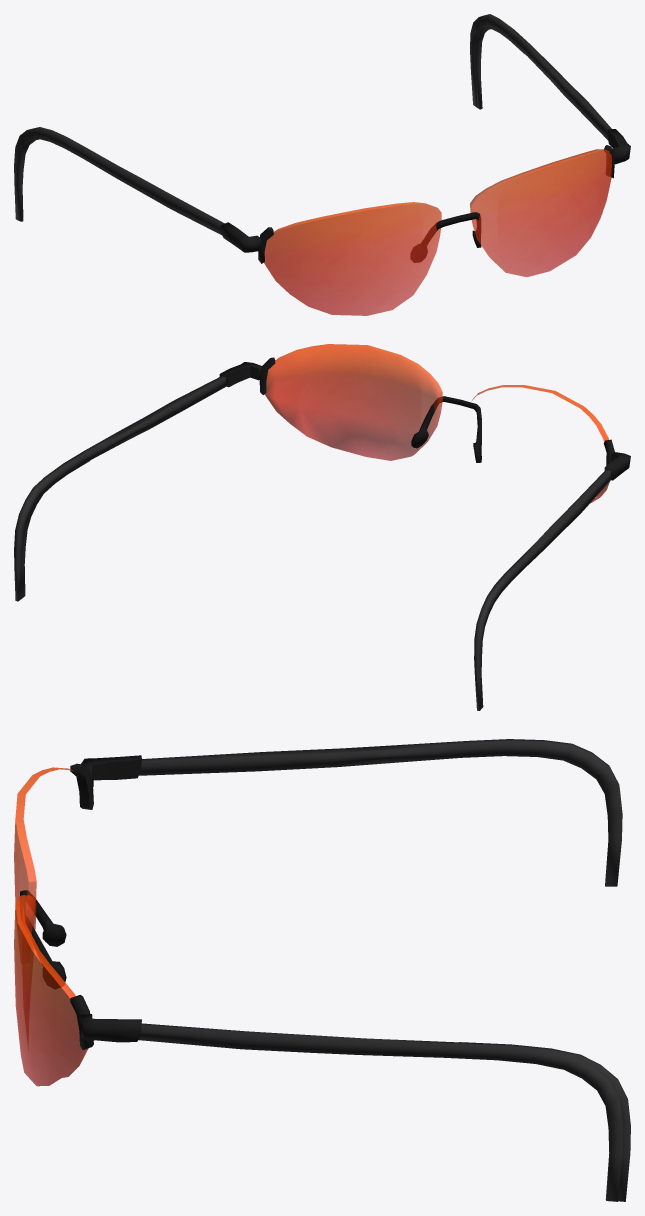
Rendered from glasses.glb.
The picture shows the model from 3 angles, top to bottom: view 1: azimuth 30°, elevation 25°; view 2: azimuth 150°, elevation 25°; view 3: azimuth 270°, elevation 25°; orthographic projection. The views are drawn at different scales.
Parts seen in each view (by area): view 1: Wolf3D_Glasses; view 2: Wolf3D_Glasses; view 3: Wolf3D_Glasses.
Part boxes in pixels (x1,y1,x2,y2): Wolf3D_Glasses: [14, 14, 630, 315]; Wolf3D_Glasses: [14, 344, 630, 710]; Wolf3D_Glasses: [14, 739, 630, 1201].
Bounding box in the file's own units: 0.1629 × 0.0444 × 0.1338.
Materials: 1 (1 with a texture image).
